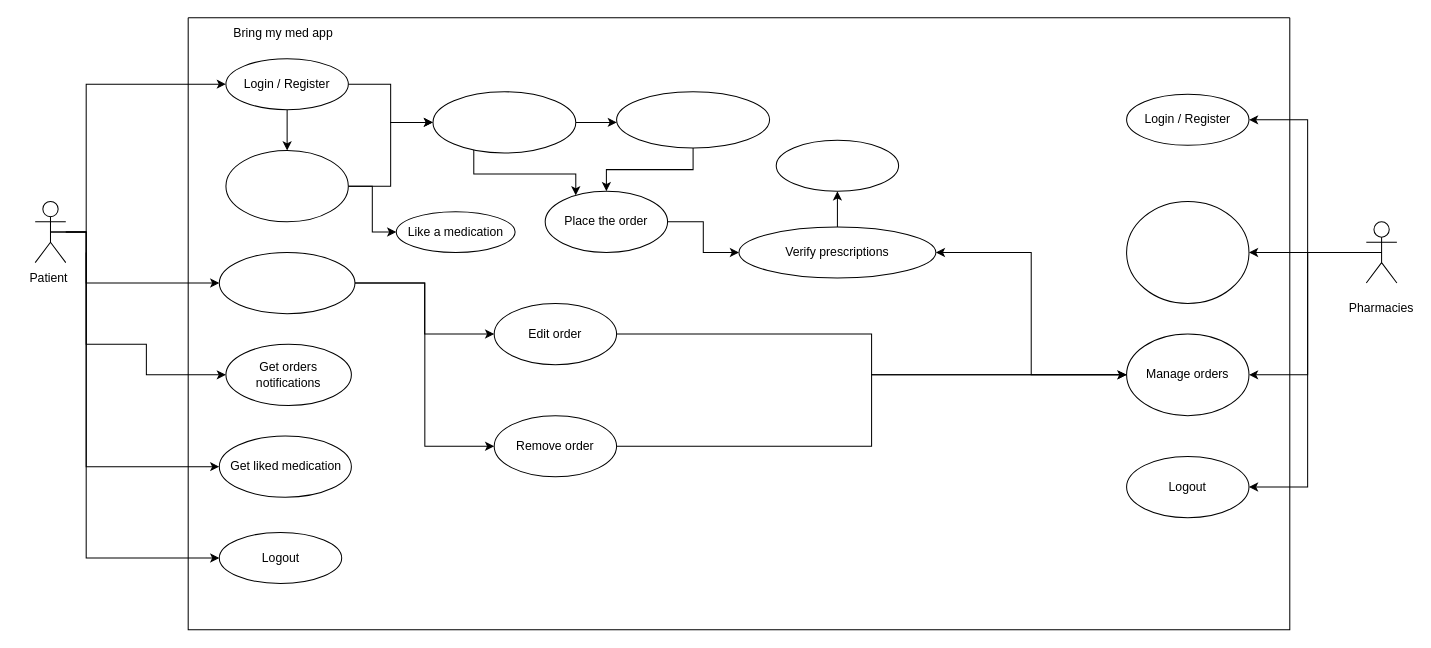
Image size: 1431x648. Some labels were removed from this diagram. The box of each missing label's shape, as (x1, y1, x2, y2) in pixels:
Add / Delete / Edit Medications: (1126, 200, 1249, 303)
Add the prescription Id: (616, 91, 770, 148)
Browse the medication store: (225, 149, 348, 222)
Payment process: (775, 139, 899, 191)
Request to place an order: (432, 91, 576, 153)
View orders: (218, 251, 355, 314)
